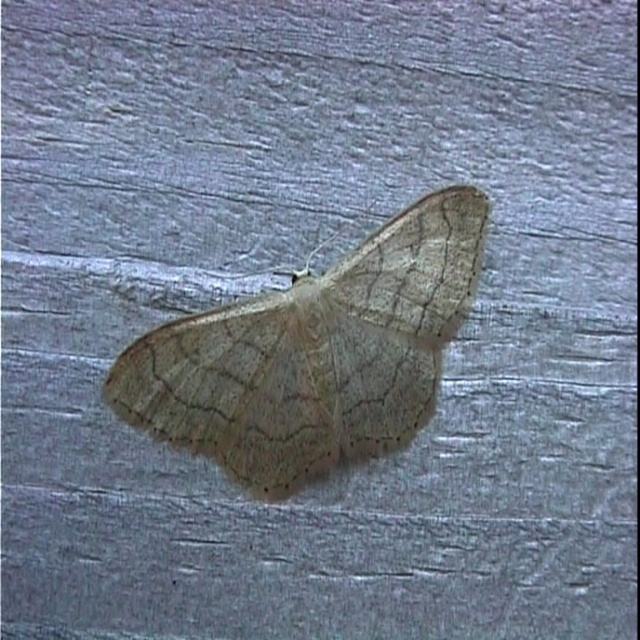Moths and butterflies: (97, 184, 500, 514)
